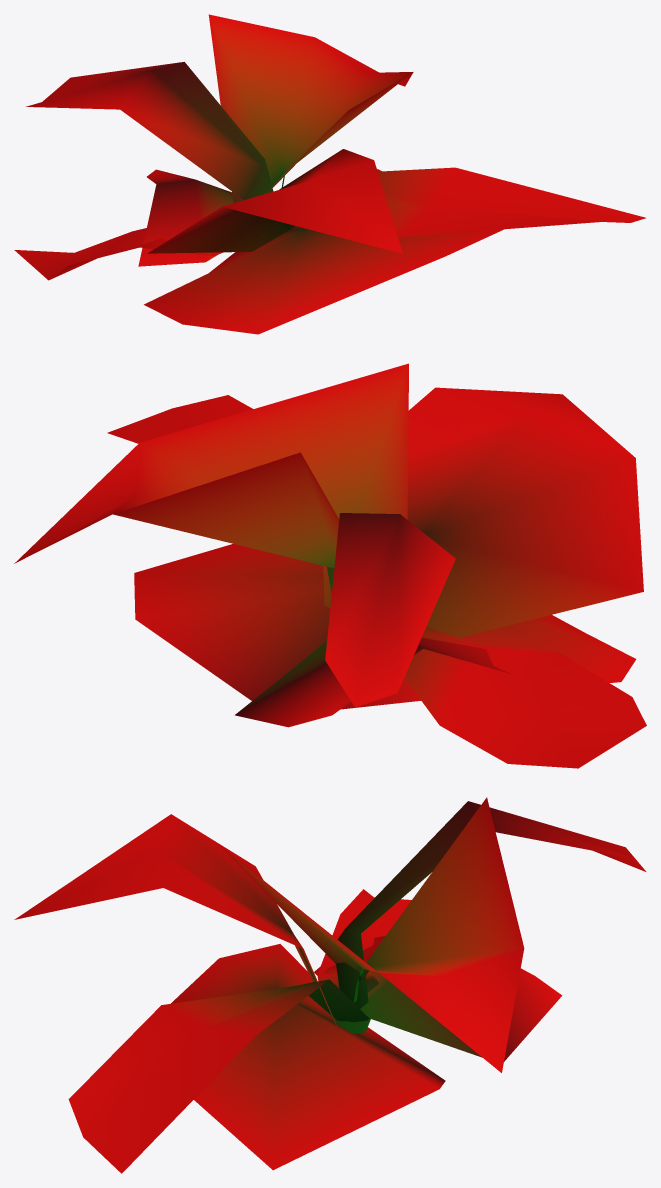
Rendered from Var4_LOD1.fbx.
3 renders of one model, top to bottom at view 1: azimuth 30°, elevation 25°; view 2: azimuth 150°, elevation 25°; view 3: azimuth 270°, elevation 25°, orthographic. The views are drawn at different scales.
Parts seen in each view (by area): view 1: Var4_LOD1; view 2: Var4_LOD1; view 3: Var4_LOD1.
Boxes of the visible parts, x1=… form: Var4_LOD1: x1=14, y1=14, x2=645, y2=334; Var4_LOD1: x1=14, y1=363, x2=646, y2=768; Var4_LOD1: x1=14, y1=797, x2=646, y2=1173.
Size of the model in its own units: 140 by 57.44 by 126.
